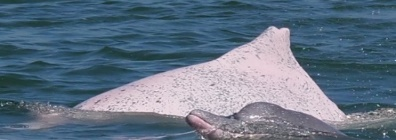fin: (70, 15, 386, 130)
